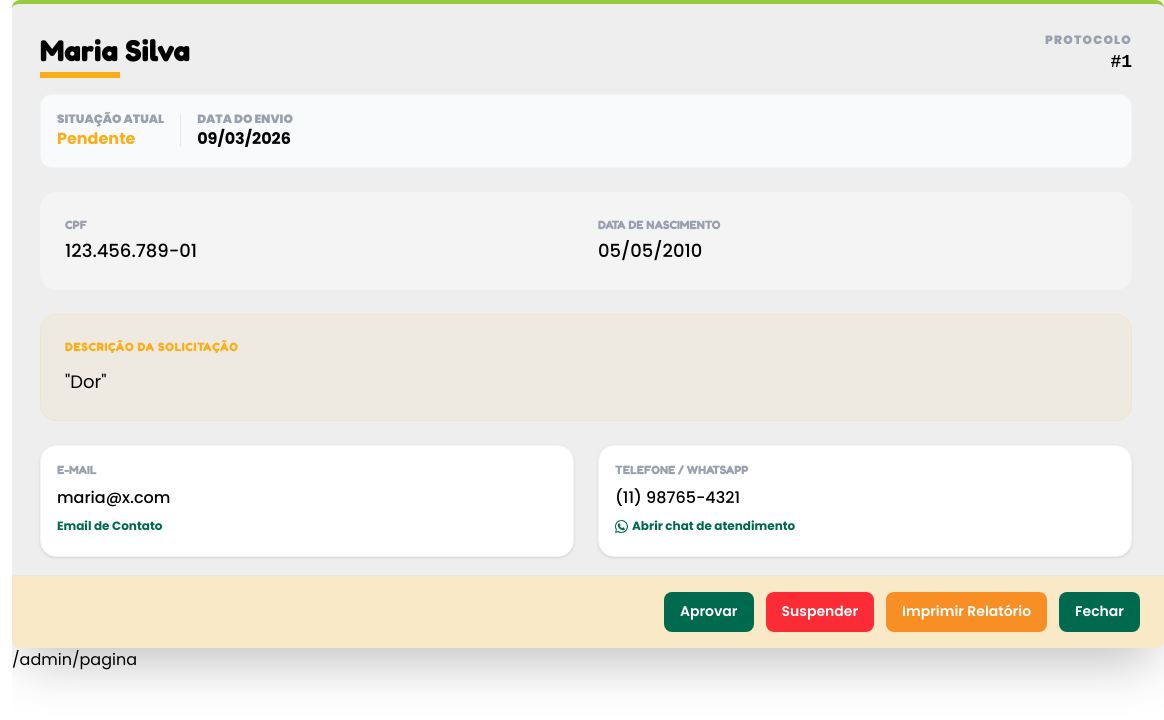
Test: link do chat — telefone do beneficiário (pedido de ajuda) › sem DDI no painel do admin
This screenshot has width=1164, height=720.
Click the button "Abrir chat de atendimento" at point(705, 526), box [615,518,795,534]
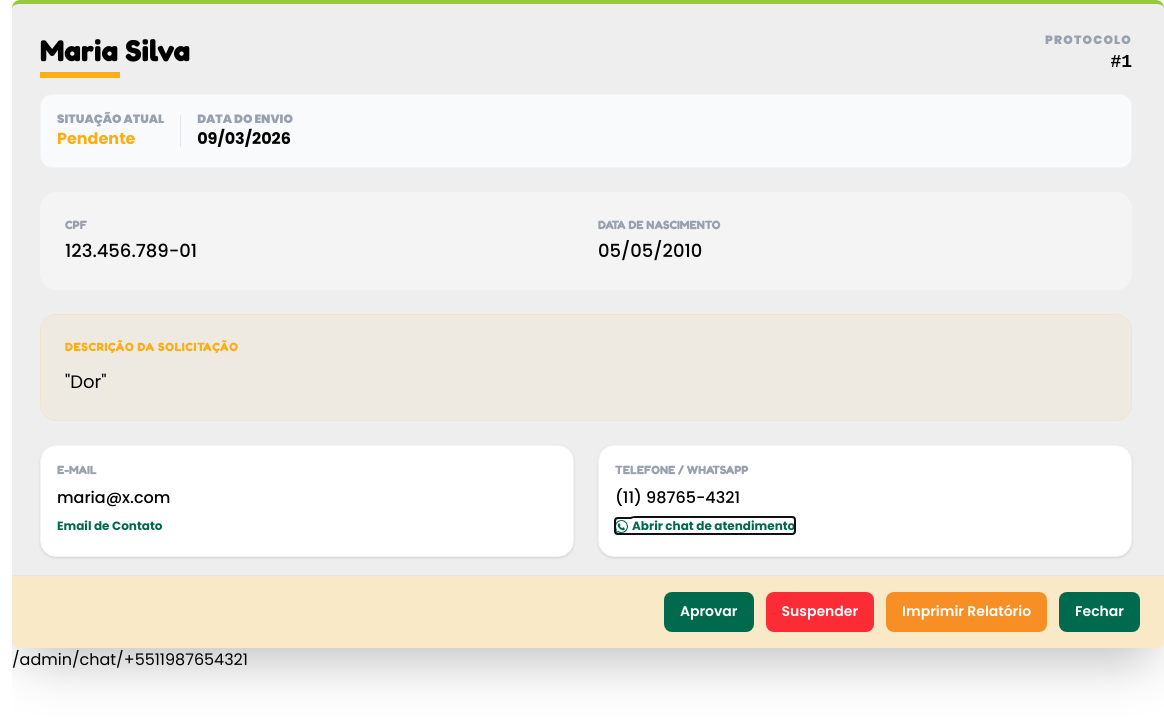
Expected: the text with test id "local" reads "/admin/chat/+5511987654321", [12,648,248,671]
